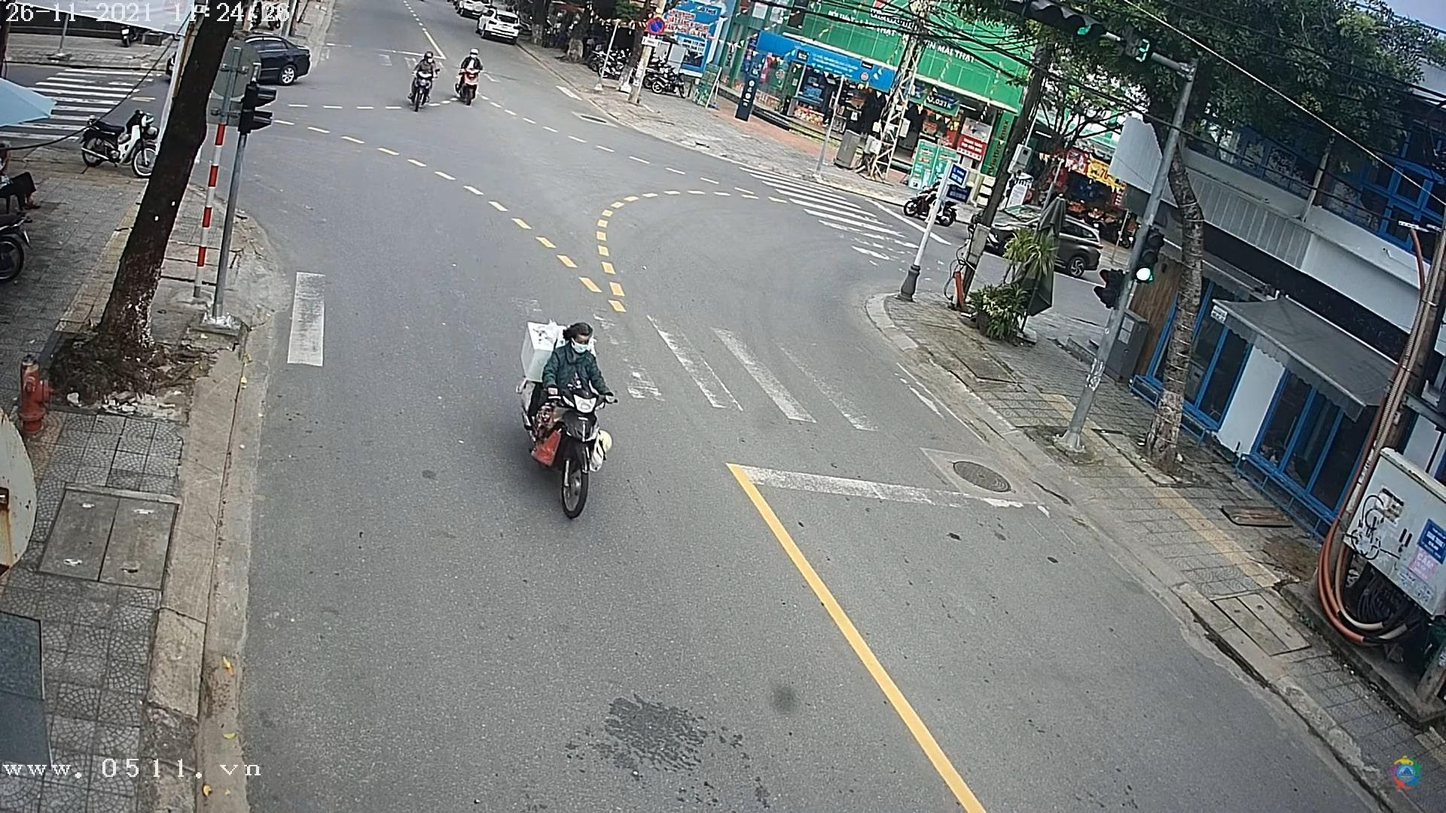car: (245, 37, 315, 85)
motorbike: (528, 375, 608, 523), (407, 66, 434, 113), (456, 69, 482, 107)
